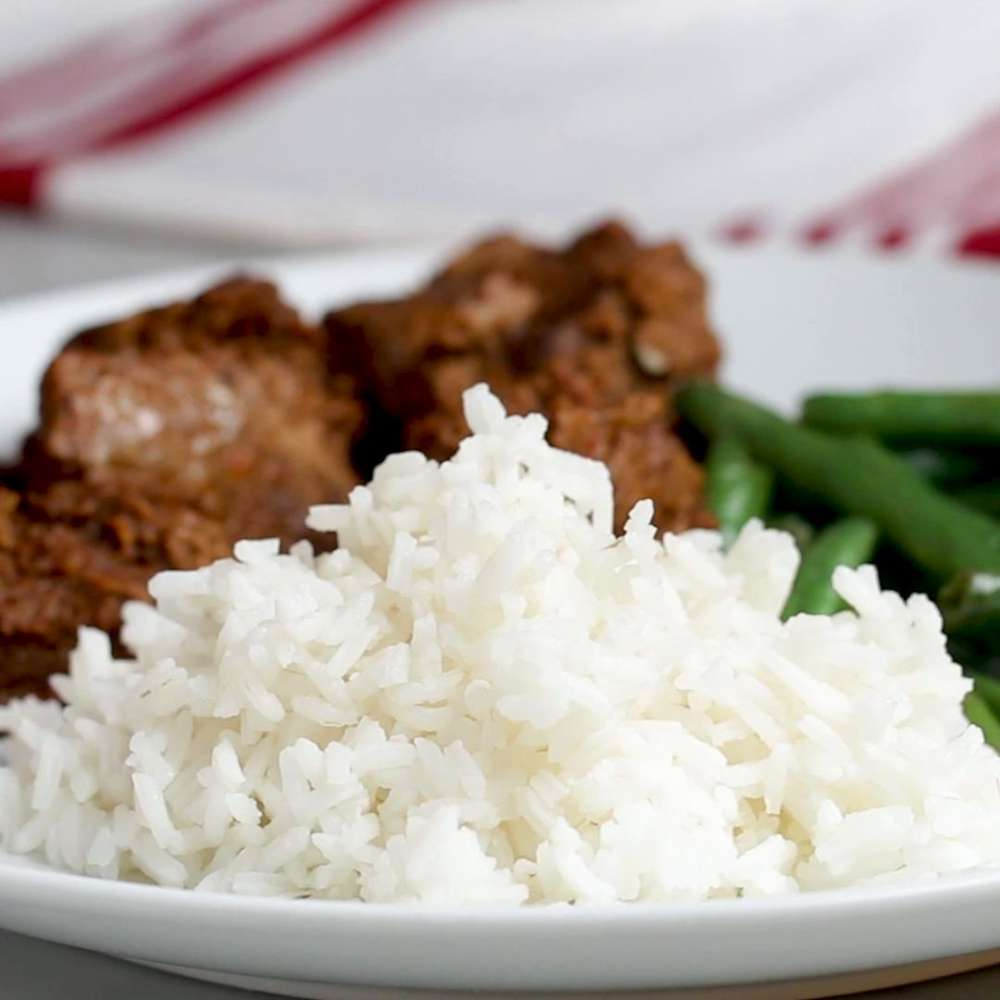plain rice: (182, 595, 902, 857)
